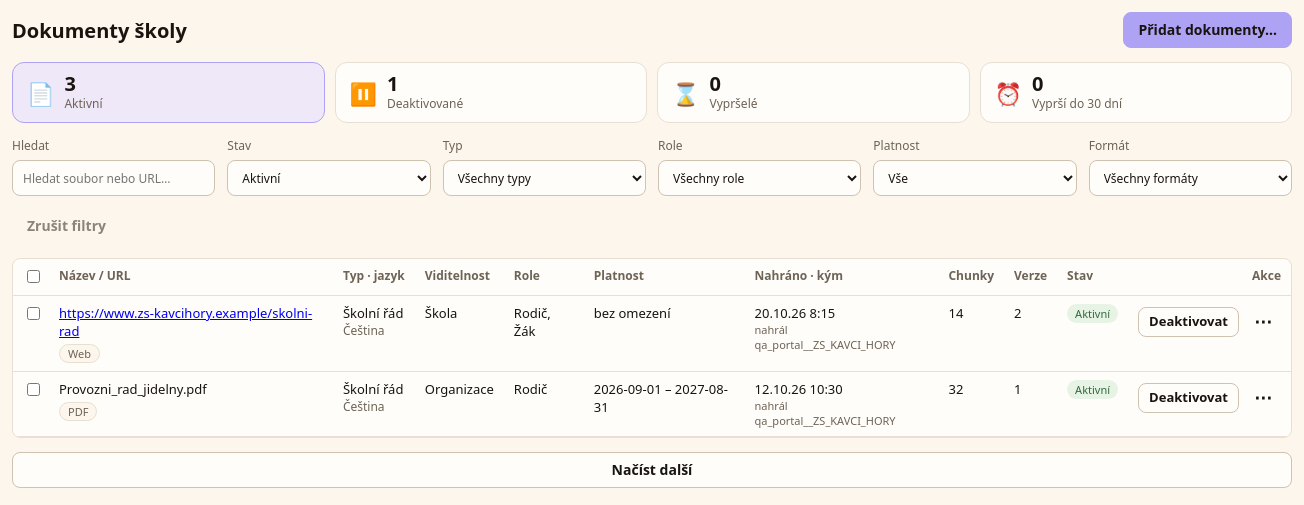
Test case: DocumentsPage — list › filters by state and searches (debounced) by file name or URL
The width and height of the screenshot is (1304, 505).
Expected: the link "https://www.zs-kavcihory.example/skolni-rad" is shown, [59,304,323,340]
Expected: the text "Jidelnicek_zari.docx" is not shown
Select "Deaktivované" in the dropdown labelled "Stav" at (329,178), box [227,160,431,196]
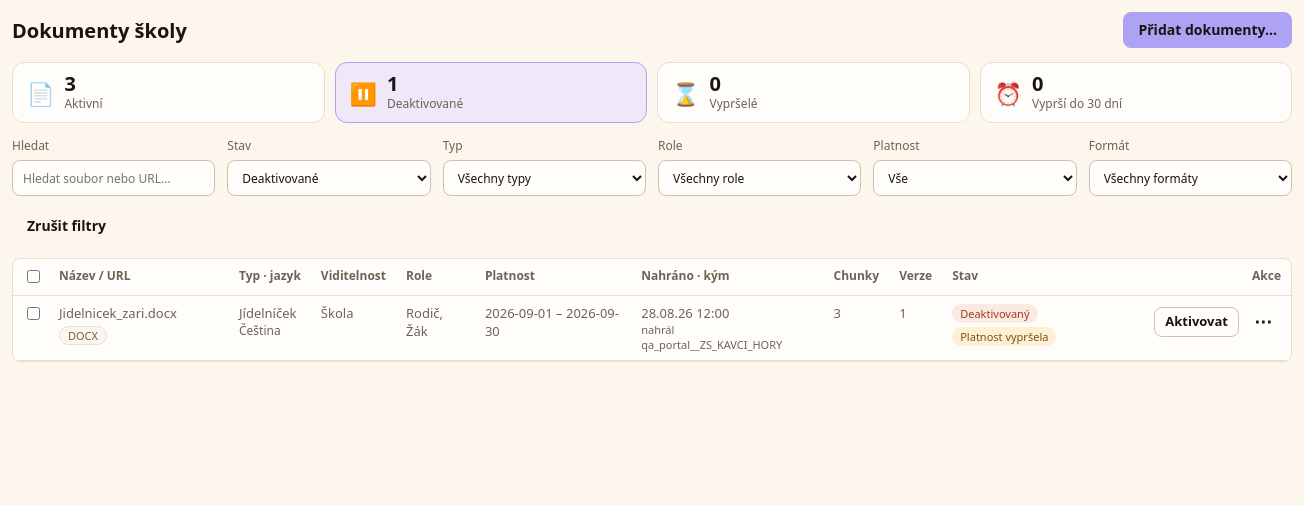
Expected: the text "Jidelnicek_zari.docx" is shown, [59,304,177,322]
Expected: the link "https://www.zs-kavcihory.example/skolni-rad" is gone
Expected: the text "Deaktivovaný" is shown, [952,304,1038,323]
Select "Vše" in the dropdown labelled "Stav" at (329,178), box [227,160,431,196]
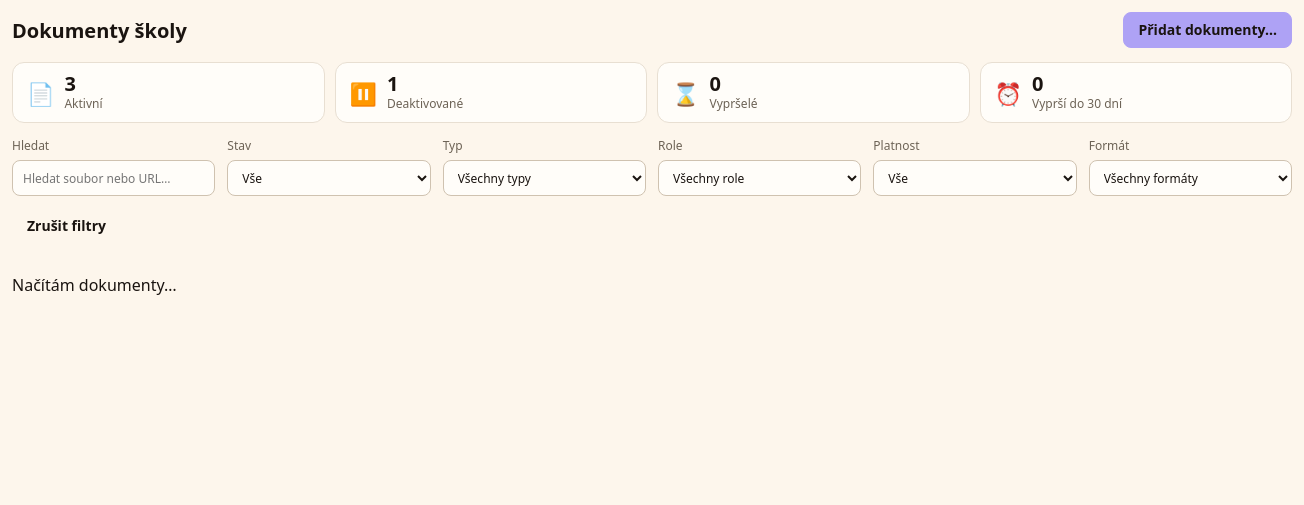
Type "jidel" into the search field labelled "Hledat".
click(114, 178); type("jidel")  # box [12,160,215,196]
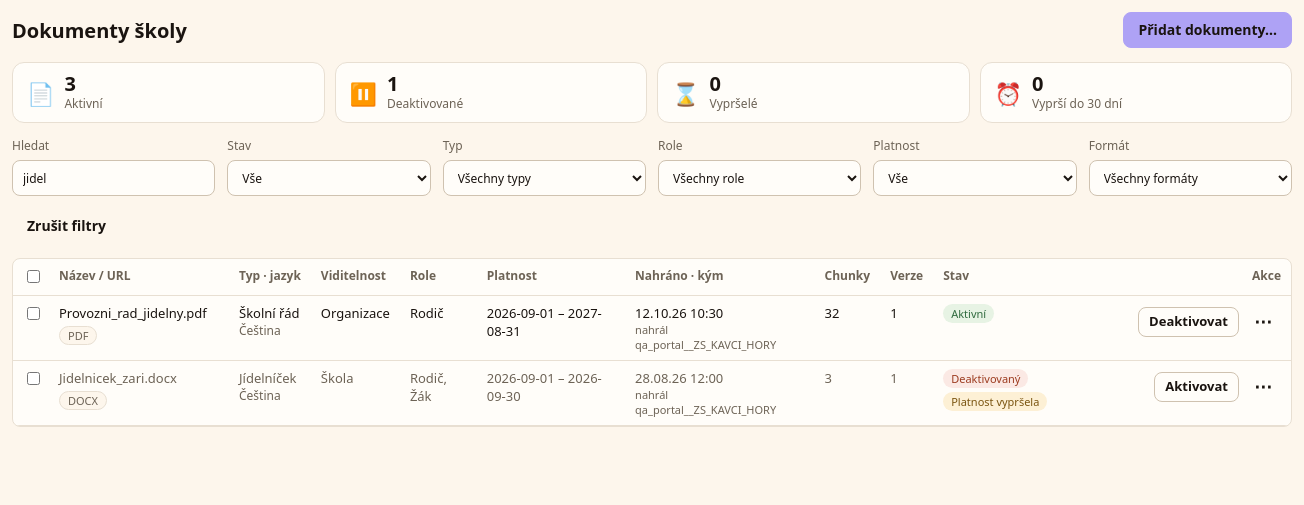
Expected: the link "https://www.zs-kavcihory.example/skolni-rad" is not shown
Expected: the text "Provozni_rad_jidelny.pdf" is shown, [59,304,219,322]
Expected: the text "Jidelnicek_zari.docx" is shown, [59,369,177,387]
Replace the text in the search field labelled "Hledat" with "nic-takoveho" at (114,178), box [12,160,215,196]
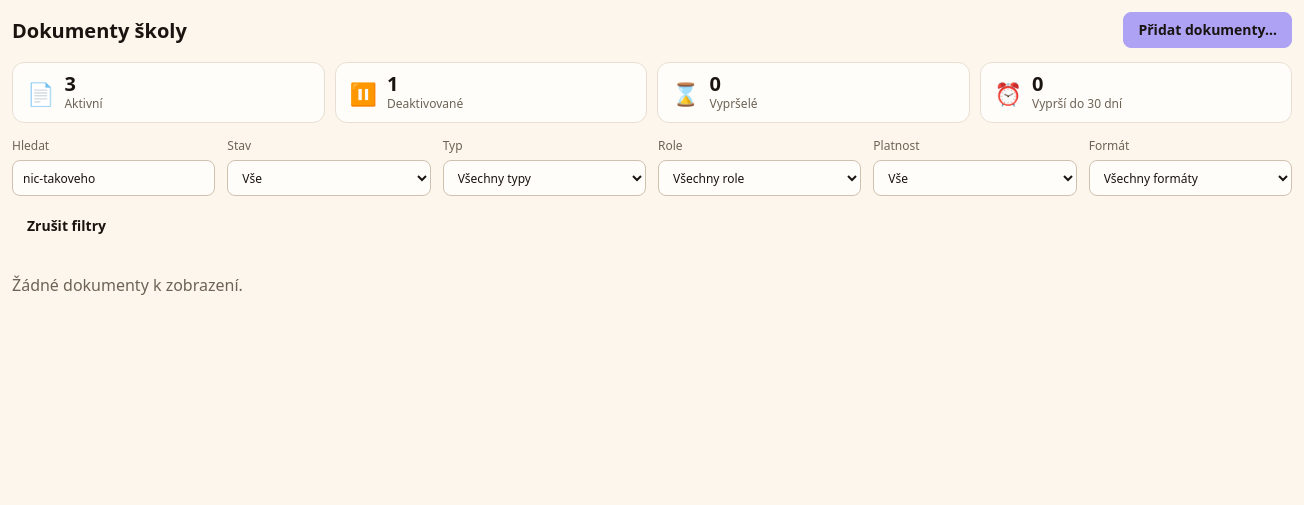
Expected: the text "Žádné dokumenty k zobrazení." is shown, [12,274,243,296]
